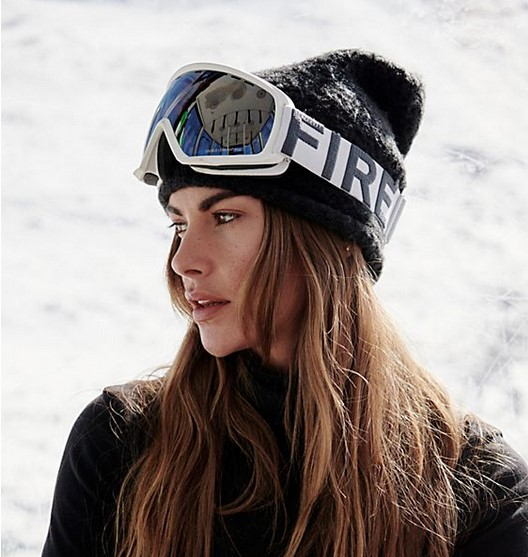face_no_mask: (152, 153, 340, 363)
